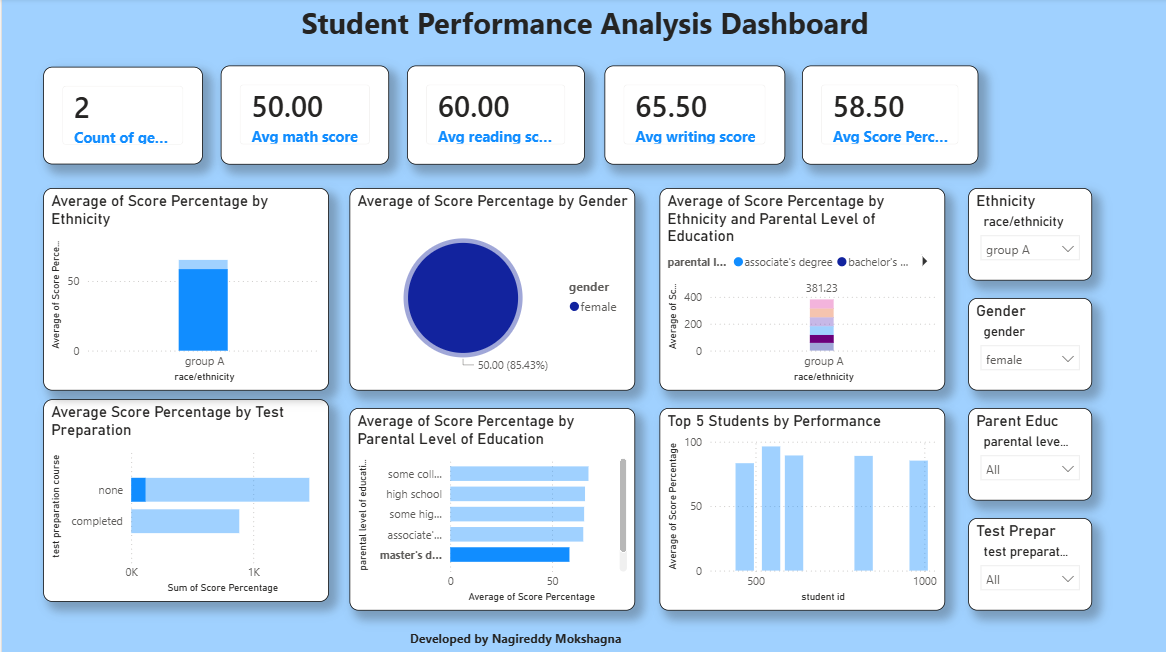

The page's visual inventory and layout, read from the dashboard file:
{"tool":"powerbi","page":{"name":"Page 1","canvas":[1280,720],"ordinal":0},"visuals":[{"type":"cardVisual","fields":{"Data":["Avg(StudentsPerformance.math score)"]},"box":[240,73.8,185,108.8],"z":0},{"type":"cardVisual","fields":{"Data":["Avg(StudentsPerformance.reading score)"]},"box":[445,73.8,195,108.8],"z":1000},{"type":"cardVisual","fields":{"Data":["Avg(StudentsPerformance.writing score)"]},"box":[661.2,73.8,198.8,108.8],"z":2000},{"type":"pieChart","title":"Average of Score Percentage by Gender","fields":{"Category":["StudentsPerformance.gender"],"Y":["Avg(StudentsPerformance.math score)"]},"box":[381.2,208.8,313.8,222.5],"z":3000},{"type":"clusteredBarChart","title":" Average Score Percentage by Test Preparation","fields":{"Y":["Sum(StudentsPerformance.Score Percentage)"],"Category":["StudentsPerformance.test preparation course"]},"box":[45,440,313.8,222.5],"z":4000},{"type":"textbox","box":[0,0,1280.3,68.6],"z":5000},{"type":"ribbonChart","title":"Average of Score Percentage by Ethnicity and Parental Level of Education","fields":{"Category":["StudentsPerformance.race/ethnicity"],"Y":["Avg(StudentsPerformance.Score Percentage)"],"Series":["StudentsPerformance.parental level of education"]},"box":[721.2,208.8,313.8,222.5],"z":6000},{"type":"cardVisual","fields":{"Data":["CountNonNull(StudentsPerformance.gender)"]},"box":[45,75,175,107.5],"z":7000},{"type":"cardVisual","fields":{"Data":["Avg(StudentsPerformance.Score Percentage)"]},"box":[878.8,73.8,193.8,108.8],"z":8000},{"type":"clusteredColumnChart","title":"Average of Score Percentage by Ethnicity","fields":{"Category":["StudentsPerformance.race/ethnicity"],"Y":["Avg(StudentsPerformance.Score Percentage)"]},"box":[45,208.8,313.8,222.5],"z":9000},{"type":"clusteredBarChart","title":"Average of Score Percentage by Parental Level of Education","fields":{"Category":["StudentsPerformance.parental level of education"],"Y":["Avg(StudentsPerformance.Score Percentage)"]},"box":[381.2,450,313.8,222.5],"z":10000},{"type":"clusteredColumnChart","title":"Top 5 Students by Performance","fields":{"Category":["StudentsPerformance.student id"],"Y":["Avg(StudentsPerformance.Score Percentage)"]},"box":[721.2,450,313.8,222.5],"z":11000},{"type":"slicer","title":"Ethnicity","fields":{"Values":["StudentsPerformance.race/ethnicity"]},"box":[1060.7,208.6,135.8,101.5],"z":12000},{"type":"slicer","title":"Gender","fields":{"Values":["StudentsPerformance.gender"]},"box":[1060.7,329.3,135.8,101.5],"z":13000},{"type":"slicer","title":"Parent Educ","fields":{"Values":["StudentsPerformance.parental level of education"]},"box":[1060.7,450.1,135.8,101.5],"z":14000},{"type":"slicer","title":"Test Prepar","fields":{"Values":["StudentsPerformance.test preparation course"]},"box":[1060.7,570.8,135.8,101.5],"z":15000},{"type":"textbox","box":[220,688.8,688.8,31.2],"z":16000}]}

Visuals, with their boxes in screenshot pixels (x1, y1, x2, y2), scaled from the page's 1280x720 canvas onto the 1166x652 screenshot:
cardVisual - Avg(StudentsPerformance.math score): 219, 67, 387, 165
cardVisual - Avg(StudentsPerformance.reading score): 405, 67, 583, 165
cardVisual - Avg(StudentsPerformance.writing score): 602, 67, 783, 165
"Average of Score Percentage by Gender" pieChart: 347, 189, 633, 391
" Average Score Percentage by Test Preparation" clusteredBarChart: 41, 398, 327, 600
textbox: 0, 0, 1165, 62
"Average of Score Percentage by Ethnicity and Parental Level of Education" ribbonChart: 657, 189, 943, 391
cardVisual - CountNonNull(StudentsPerformance.gender): 41, 68, 200, 165
cardVisual - Avg(StudentsPerformance.Score Percentage): 801, 67, 977, 165
"Average of Score Percentage by Ethnicity" clusteredColumnChart: 41, 189, 327, 391
"Average of Score Percentage by Parental Level of Education" clusteredBarChart: 347, 408, 633, 609
"Top 5 Students by Performance" clusteredColumnChart: 657, 408, 943, 609
"Ethnicity" slicer: 966, 189, 1090, 281
"Gender" slicer: 966, 298, 1090, 390
"Parent Educ" slicer: 966, 408, 1090, 500
"Test Prepar" slicer: 966, 517, 1090, 609
textbox: 200, 624, 828, 651
